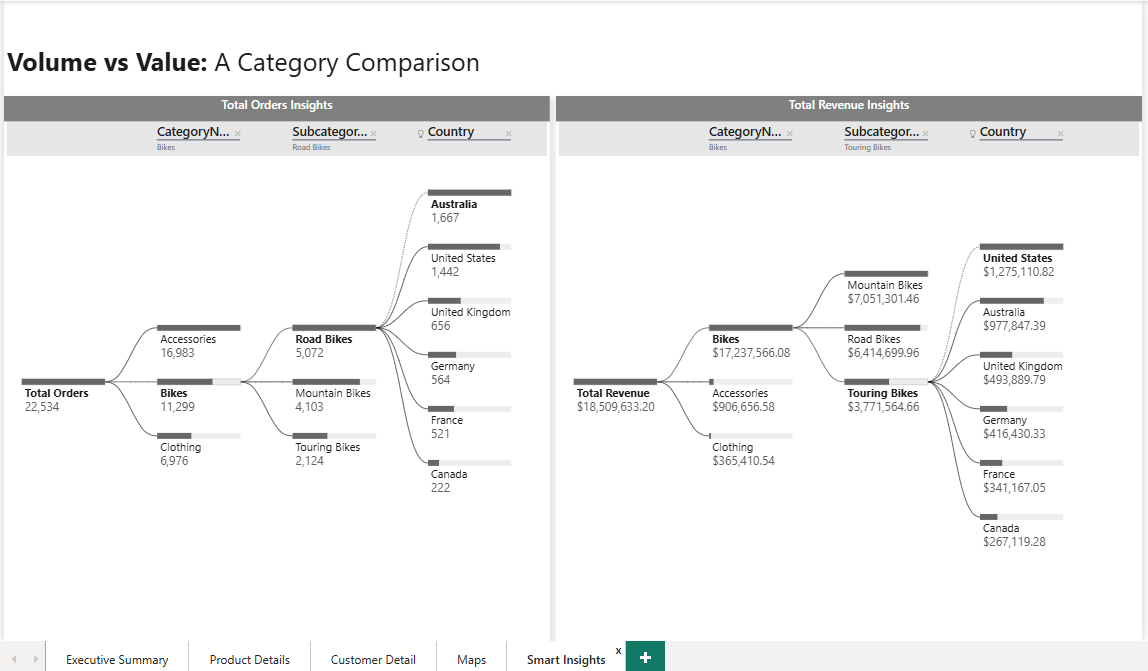

What the dashboard file says about the page in this screenshot:
{"tool":"powerbi","page":{"name":"Smart Insights","canvas":[1920,1080],"ordinal":4},"visuals":[{"type":"decompositionTreeVisual","title":"Total Orders Insights","fields":{"ExplainBy":["Product_Categories_lookups.CategoryName","Product_Subcategories_lookups.SubcategoryName","Territories.Country"],"Analyze":["Sales Data.Total Orders"]},"box":[0,160.3,921.4,919.7],"z":1},{"type":"decompositionTreeVisual","title":"Total Revenue Insights","fields":{"ExplainBy":["Product_Categories_lookups.CategoryName","Product_Subcategories_lookups.SubcategoryName","Territories.Country"],"Analyze":["Sales Data.Total Revenue"]},"box":[931.5,160.3,988.9,919.7],"z":2},{"type":"textbox","box":[0,67.5,894.4,72.6],"z":3}]}

Visuals, with their boxes on the page's 1920x1080 design canvas (x1, y1, x2, y2). These are canvas units, not pixel positions in the 1148x671 screenshot, which may show the page scaled, cropped or inside an application window:
"Total Orders Insights" decompositionTreeVisual: (left=0, top=160, right=921, bottom=1080)
"Total Revenue Insights" decompositionTreeVisual: (left=932, top=160, right=1920, bottom=1080)
textbox: (left=0, top=68, right=894, bottom=140)
